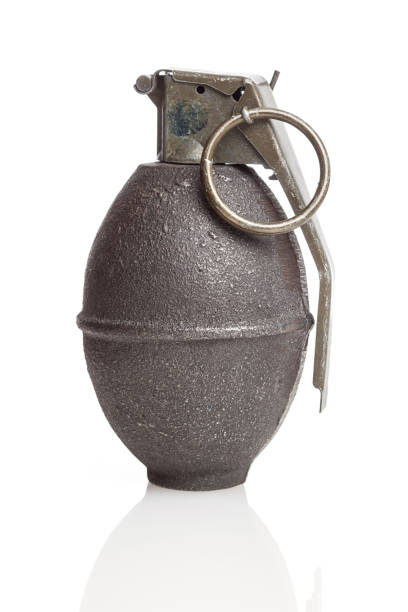e1: (80, 67, 332, 491)
